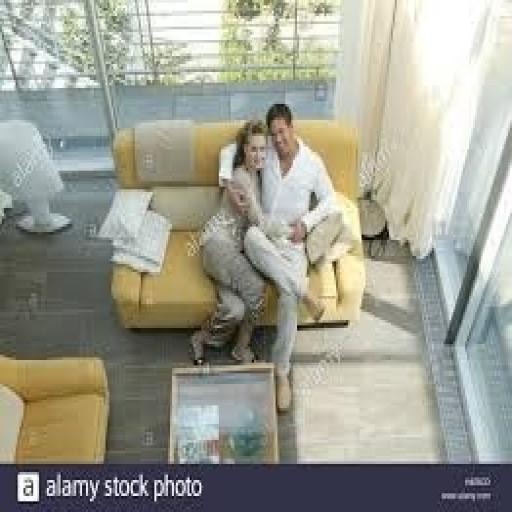sitting: (186, 96, 348, 413)
